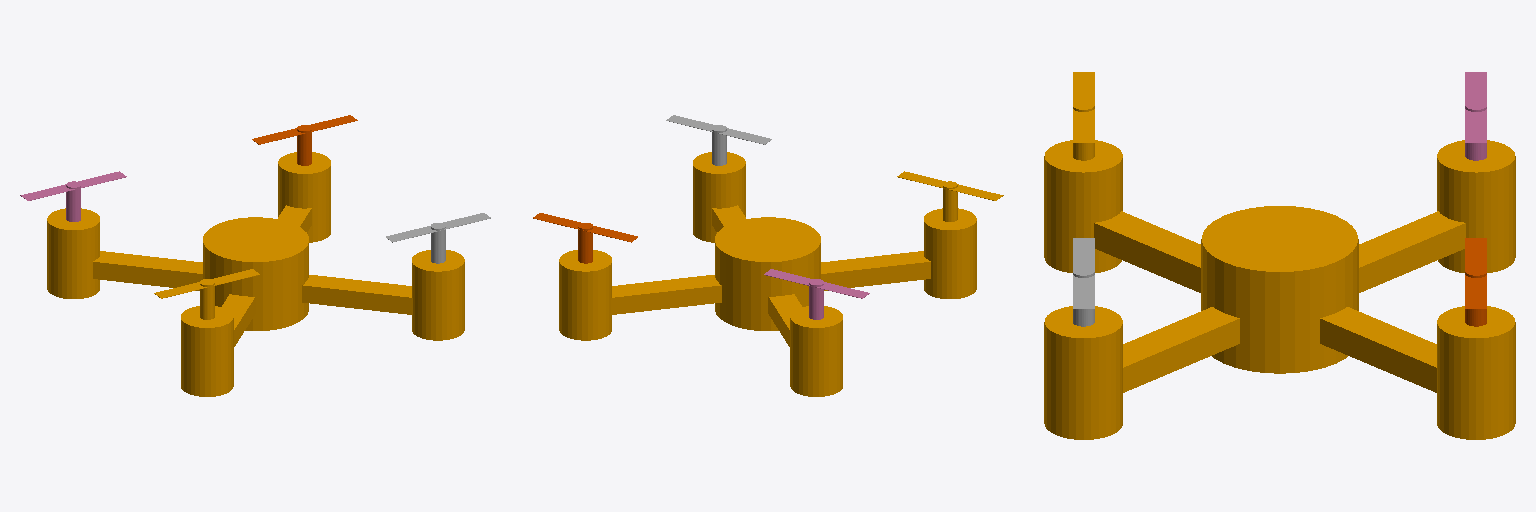
The robot description file, URDF, robot "drone":
<?xml version="1.0"?>
<robot name="drone">
    <link name="drone_body">
	<visual>
		<origin rpy="0.0 0.0 0.0" xyz="0 0 0"/>
        <!-- our dynamic follow + shape pattern instead of x. So we should rotate it firstly -->
		<geometry>
		     <mesh filename="package://mydrone/meshs/drone_body.dae"/> 
		    <!-- <mesh filename="package://urdf_tutorial/meshes/l_finger.dae"/> -->
		</geometry>
	</visual>
    </link>

    <link name="hole1">
        <origin rpy="0.0 0 0" xyz="0 0 0"/>
    </link>
    <link name="hole2">
        <origin rpy="0.0 0 0" xyz="0 0 0"/>
    </link>
    <link name="hole3">
        <origin rpy="0.0 0 0" xyz="0 0 0"/>
    </link>
    <link name="hole4">
        <origin rpy="0.0 0 0" xyz="0 0 0"/>
    </link>

    <link name="propeller1">
	<visual>
		<origin rpy="0.0 0 0" xyz="0 0 0"/>
		<geometry>
		    <mesh filename="package://mydrone/meshs/propeller.dae"/>
		</geometry>
	</visual>
    </link>
    <link name="propeller2">
	<visual>
		<origin rpy="0.0 0 0" xyz="0 0 0"/>
		<geometry>
		    <mesh filename="package://mydrone/meshs/propeller.dae"/>
		</geometry>
	</visual>
    </link>
    <link name="propeller3">
	<visual>
		<origin rpy="0.0 0 0" xyz="0 0 0"/>
		<geometry>
		    <mesh filename="package://mydrone/meshs/propeller.dae"/>
		</geometry>
	</visual>
    </link>
    <link name="propeller4">
	<visual>
		<origin rpy="0.0 0 0" xyz="0 0 0"/>
		<geometry>
		    <mesh filename="package://mydrone/meshs/propeller.dae"/>
		</geometry>
	</visual>
    </link>

    <joint name="l1" type="fixed">
        <origin xyz="0.35 0.35 0.0" />
        <parent link="drone_body"/>
        <child  link="hole1"/>
    </joint>
    <joint name="l2" type="fixed">
        <origin xyz="-0.35 0.35 0.0" />
        <parent link="drone_body"/>
        <child  link="hole2"/>
    </joint>
    <joint name="l3" type="fixed">
        <origin xyz="0.35 -0.35 0.0" />
        <parent link="drone_body"/>
        <child  link="hole3"/>
    </joint>
    <joint name="l4" type="fixed">
        <origin xyz="-0.35 -0.35 0.0" />
        <parent link="drone_body"/>
        <child  link="hole4"/>
    </joint>

    <joint name="p1" type="continuous">
	<axis xyz="0 0 1"/>
        <origin xyz="0.0 0.0 0.1" />
        <parent link="hole1"/>
        <child  link="propeller1"/>
    </joint>
    <joint name="p2" type="continuous">
        <origin xyz="0.0 0.0 0.1" />
	<axis xyz="0 0 -1"/>
        <parent link="hole2"/>
        <child  link="propeller2"/>
    </joint>
    <joint name="p3" type="continuous">
	<axis xyz="0 0 -1"/>
        <origin xyz="0.0 0.0 0.1" />
        <parent link="hole3"/>
        <child  link="propeller3"/>
    </joint>
    <joint name="p4" type="continuous">
	<axis xyz="0 0 1"/>
        <origin xyz="0.0 0.0 0.1" />
        <parent link="hole4"/>
        <child  link="propeller4"/>
    </joint>

</robot>

--- Facts derived from the render (not from the file) ---
The picture shows the robot from 3 angles, left to right: view 1: azimuth 30°, elevation 25°; view 2: azimuth 150°, elevation 25°; view 3: azimuth 270°, elevation 25°; orthographic projection.
Robot: drone — 9 links, 8 joints (4 continuous, 4 fixed); root link drone_body; default pose: every joint at zero.
Links seen in each view (by area): view 1: drone_body, propeller4, propeller1, propeller2, propeller3; view 2: drone_body, propeller2, propeller3, propeller1, propeller4; view 3: drone_body, propeller2, propeller4, propeller1, propeller3.
Link boxes in pixels (<box>): drone_body: <box>47,152,464,396</box>; propeller4: <box>154,269,259,319</box>; propeller1: <box>252,115,357,165</box>; propeller2: <box>20,171,126,221</box>; propeller3: <box>386,213,490,263</box>; drone_body: <box>559,152,976,396</box>; propeller2: <box>764,269,869,319</box>; propeller3: <box>666,115,771,165</box>; propeller1: <box>533,213,637,263</box>; propeller4: <box>897,171,1003,221</box>; drone_body: <box>1044,140,1515,439</box>; propeller2: <box>1465,72,1486,160</box>; propeller4: <box>1073,72,1094,160</box>; propeller1: <box>1465,238,1486,326</box>; propeller3: <box>1073,238,1094,326</box>.
Size in the robot's own frame: 1 by 0.84 by 0.3 metres.
Meshes: 2 distinct files referenced, 5 mesh visuals loaded (2 Collada DAE).